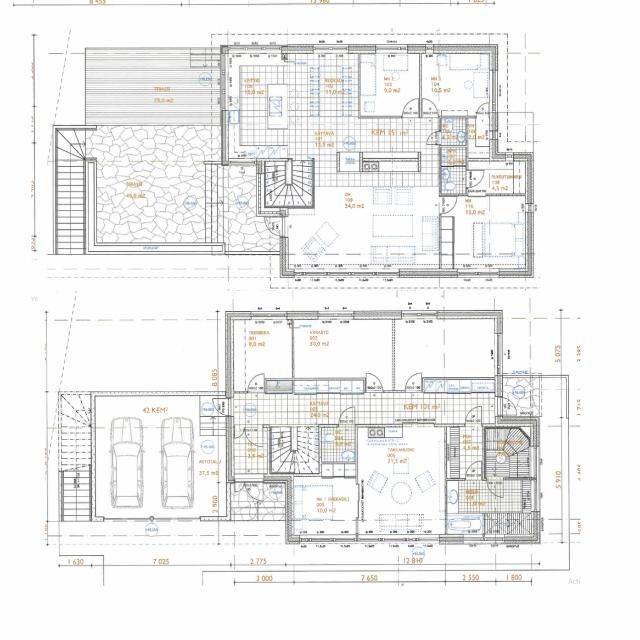door: (262, 217, 288, 237), (245, 474, 263, 502), (494, 397, 520, 416), (209, 398, 233, 416), (245, 424, 262, 446), (338, 406, 355, 426), (247, 373, 264, 393), (465, 406, 481, 427), (487, 478, 503, 498), (405, 372, 421, 392), (422, 98, 438, 118), (402, 98, 418, 118), (439, 197, 457, 214), (466, 170, 484, 187), (465, 461, 481, 480), (366, 373, 382, 392), (476, 102, 489, 118), (426, 132, 442, 144), (234, 474, 244, 493), (234, 424, 244, 438)
